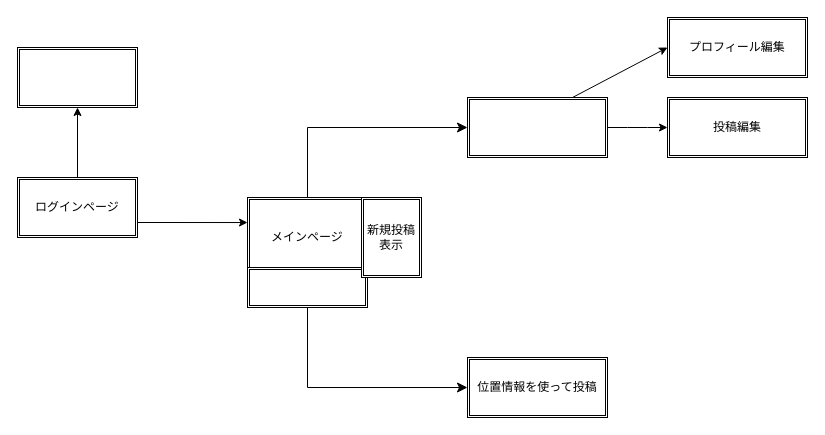
Image size: 825x435. Some labels were removed from this diagram. The shapes that lost their labels are listed below. From the top down, each one's centre as x and y in pixels, then its label:
At point 77,77: "サインアップページ".
At point 537,127: "マイページ".
At point 307,287: "新規投稿画面".
